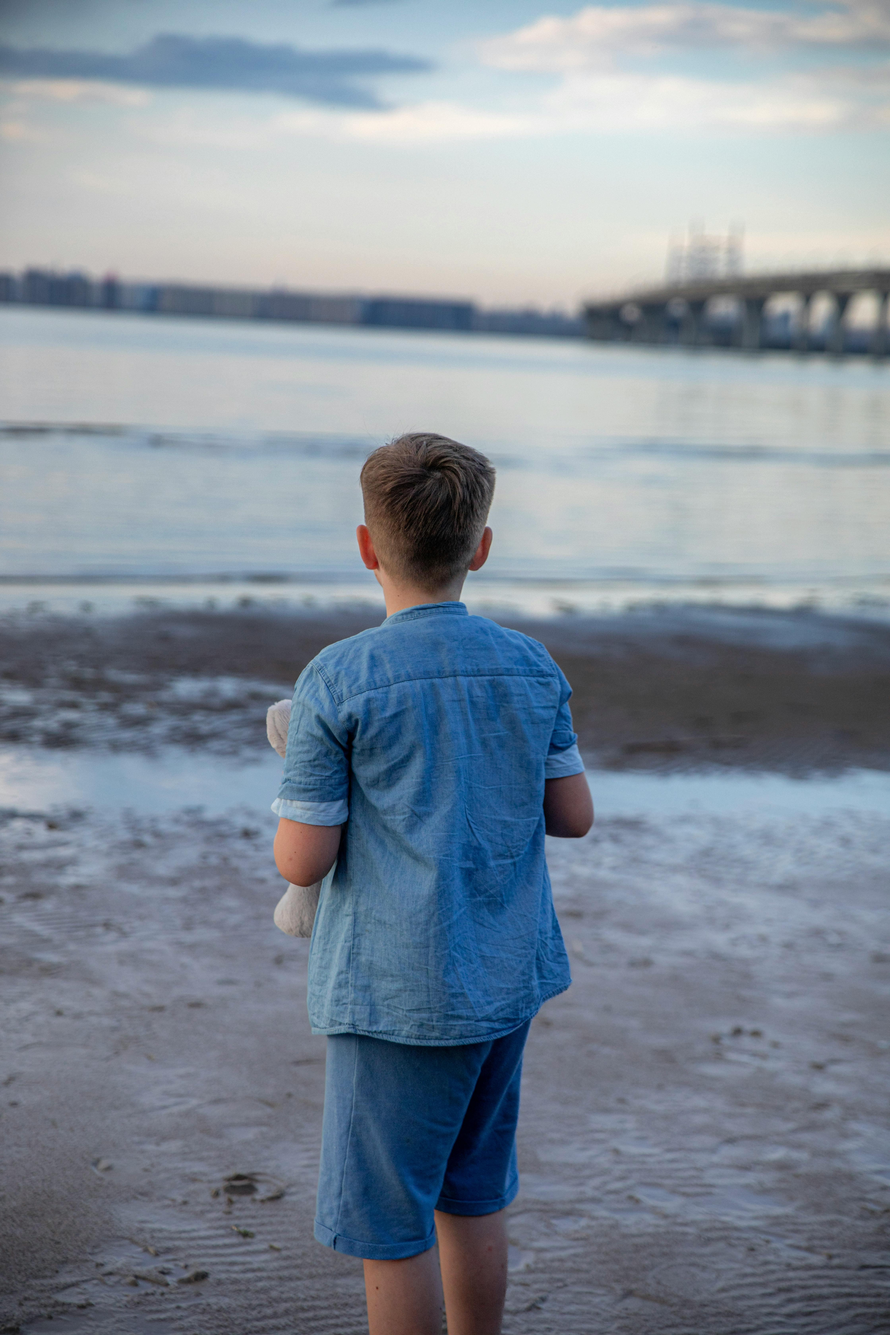Human: (303, 429, 595, 1335)
